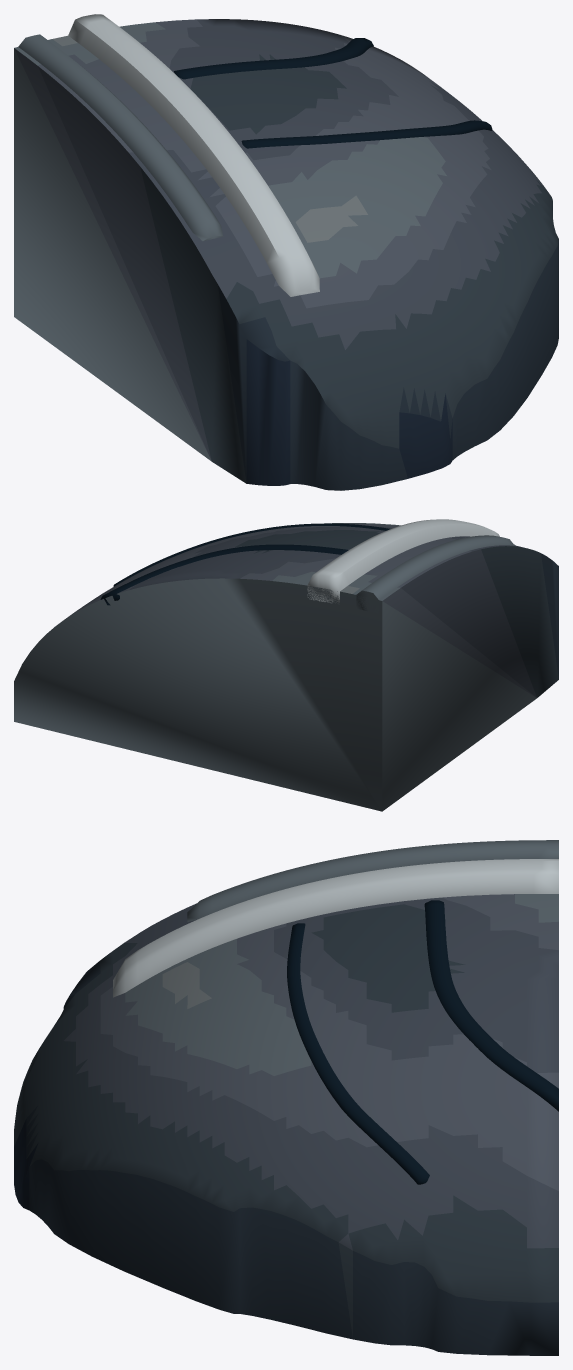
Rendered from fire_housing_r_bottom.glb.
3 renders of one model, top to bottom at view 1: azimuth 30°, elevation 25°; view 2: azimuth 150°, elevation 25°; view 3: azimuth 270°, elevation 25°, orthographic. The views are drawn at different scales.
Parts seen in each view (by area): view 1: shell, rib_out, rib_edge, crease_low, crease_cheek; view 2: shell, rib_out, rib_edge, crease_cheek, crease_low; view 3: shell, rib_out, rib_edge, crease_cheek, crease_low.
Part boxes in pixels (bbox=[...]): shell: bbox=[14, 19, 558, 490]; rib_out: bbox=[68, 14, 319, 296]; rib_edge: bbox=[18, 34, 223, 241]; crease_low: bbox=[241, 120, 492, 148]; crease_cheek: bbox=[174, 38, 373, 79]; shell: bbox=[14, 523, 558, 811]; rib_out: bbox=[307, 519, 499, 604]; rib_edge: bbox=[356, 535, 516, 613]; crease_cheek: bbox=[100, 544, 348, 605]; crease_low: bbox=[113, 523, 390, 586]; shell: bbox=[14, 894, 558, 1355]; rib_out: bbox=[113, 859, 558, 997]; rib_edge: bbox=[187, 840, 558, 921]; crease_cheek: bbox=[424, 900, 558, 1111]; crease_low: bbox=[287, 923, 429, 1184].
Bounding box in the file's own units: 22.6 × 13.02 × 22.
